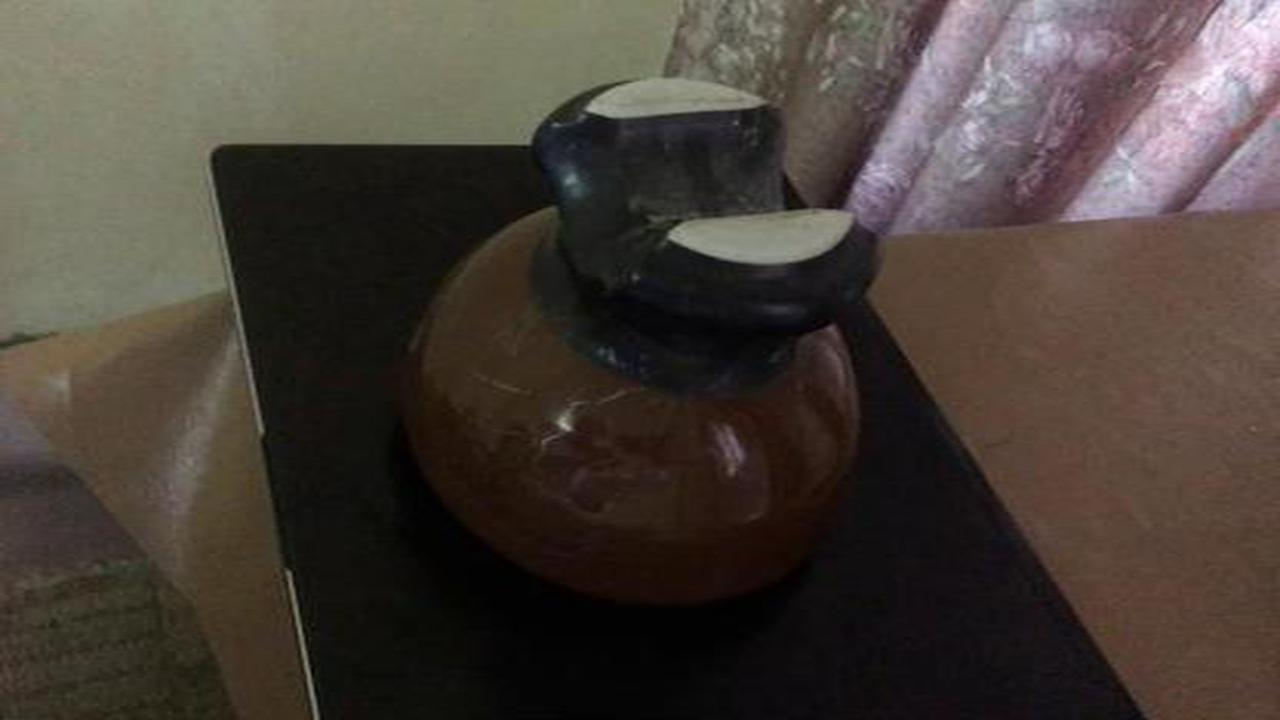insulator_pin: (391, 59, 902, 632)
